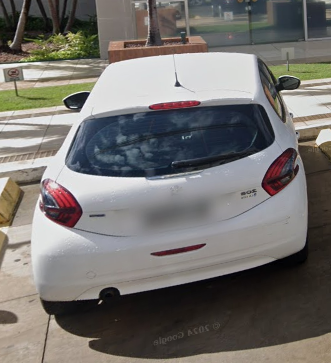car: (30, 48, 314, 313)
